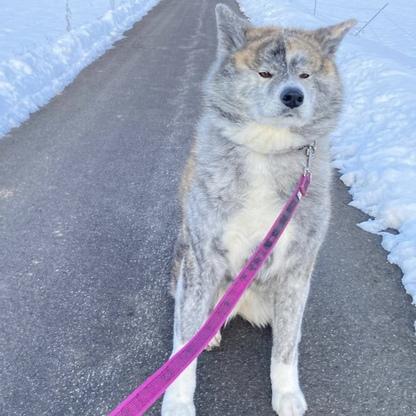akita: (153, 1, 361, 416)
